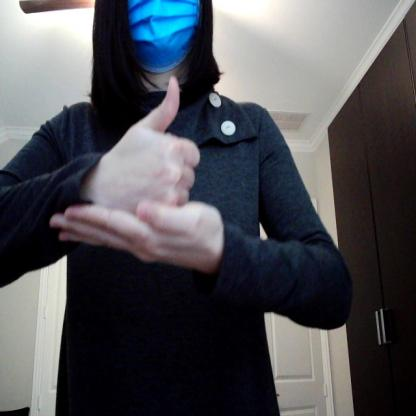help: (39, 70, 229, 278)
